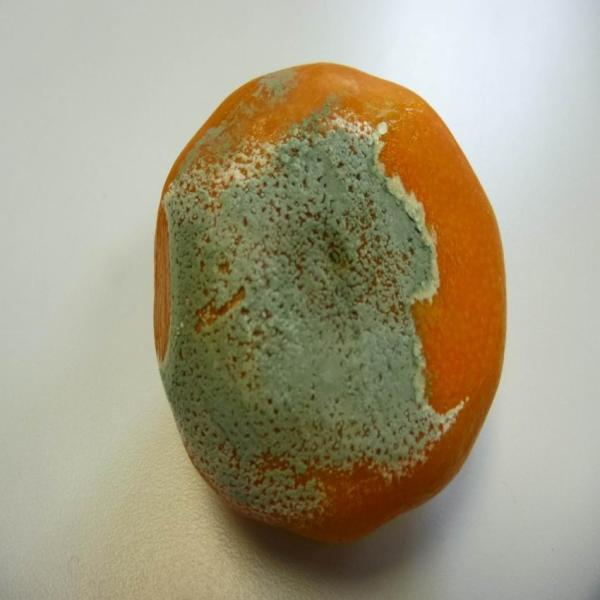Moho verde: (130, 47, 511, 552)
